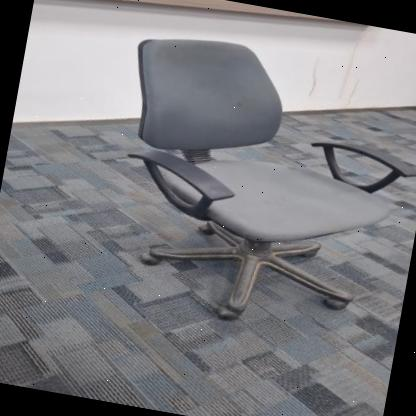chair: (85, 19, 416, 348)
